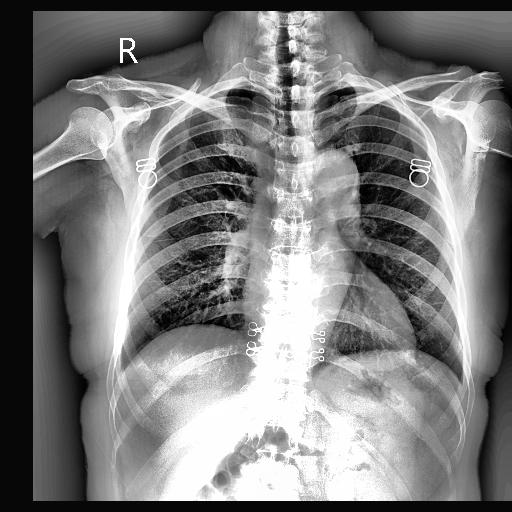0- Aortic enlargement: (302, 146, 360, 222), (308, 148, 364, 226), (301, 144, 360, 216)
